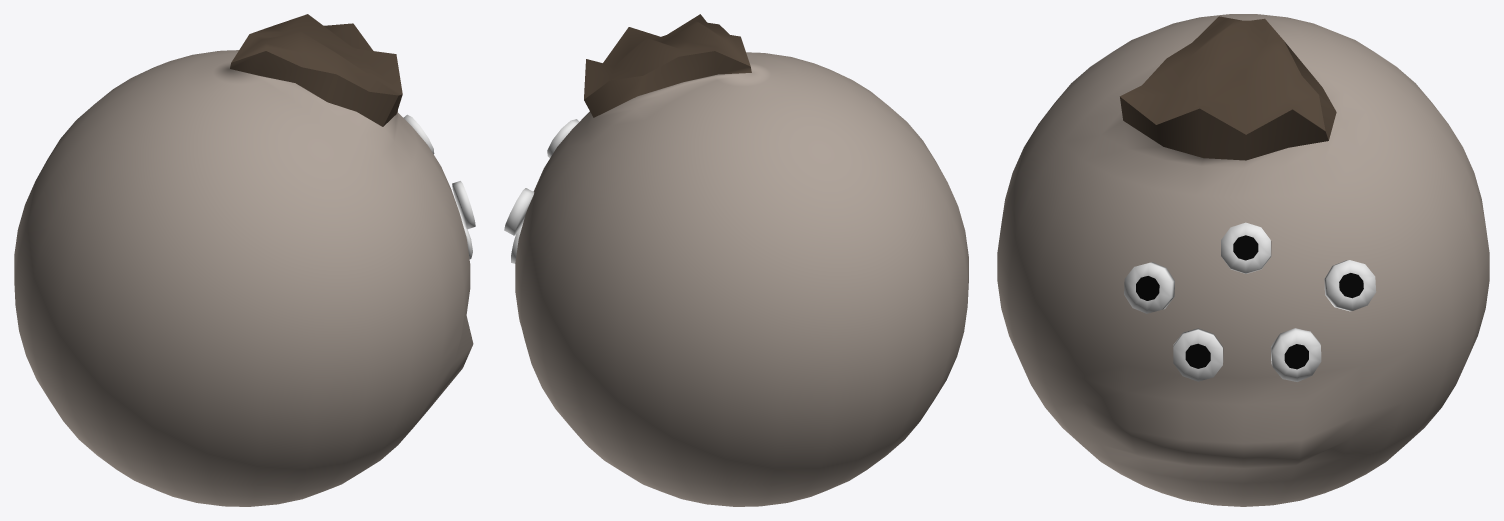
Rendered from Monster1.fbx.
3 renders of one model, left to right at view 1: azimuth 30°, elevation 25°; view 2: azimuth 150°, elevation 25°; view 3: azimuth 270°, elevation 25°, orthographic. The views are drawn at different scales.
Parts seen in each view (by area): view 1: pCylinder22; view 2: pCylinder22; view 3: pCylinder22.
Part boxes in pixels (x1=…): pCylinder22: x1=14, y1=14, x2=475, y2=506; pCylinder22: x1=504, y1=14, x2=968, y2=506; pCylinder22: x1=997, y1=14, x2=1489, y2=506.
Bounding box in the file's own units: 175 × 185 × 171.
